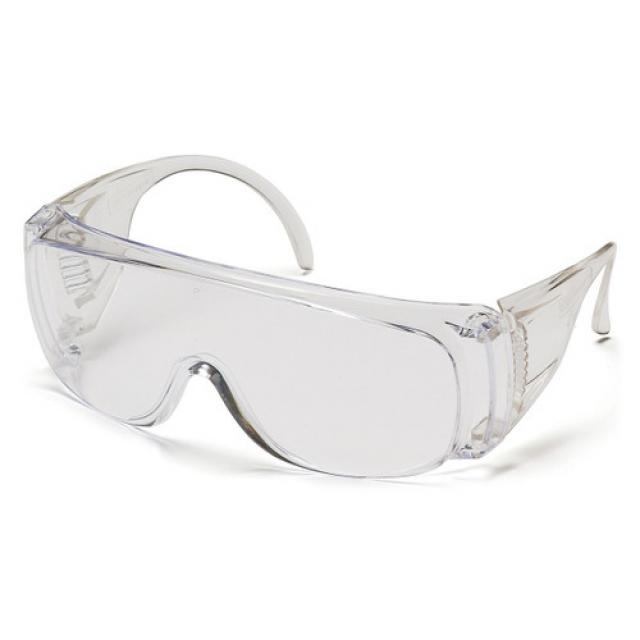Protective Glasses: (4, 87, 640, 527)
